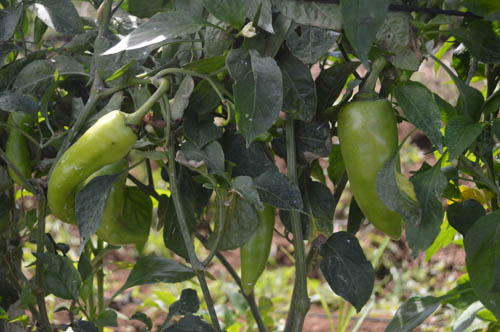ChiliPepper: (332, 101, 407, 239), (48, 112, 131, 226), (85, 168, 151, 253), (234, 206, 274, 300)
